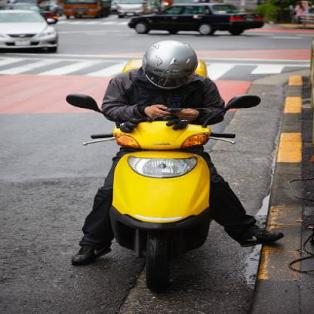Motocicleta: (94, 110, 221, 298)
